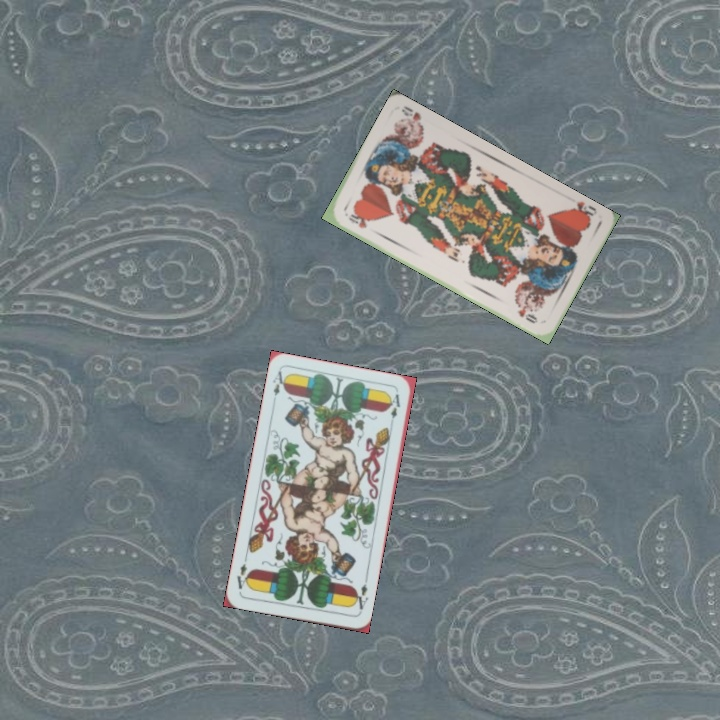EA: (349, 575, 371, 615), (269, 367, 289, 398)
HO: (563, 197, 600, 224), (344, 210, 372, 231)
